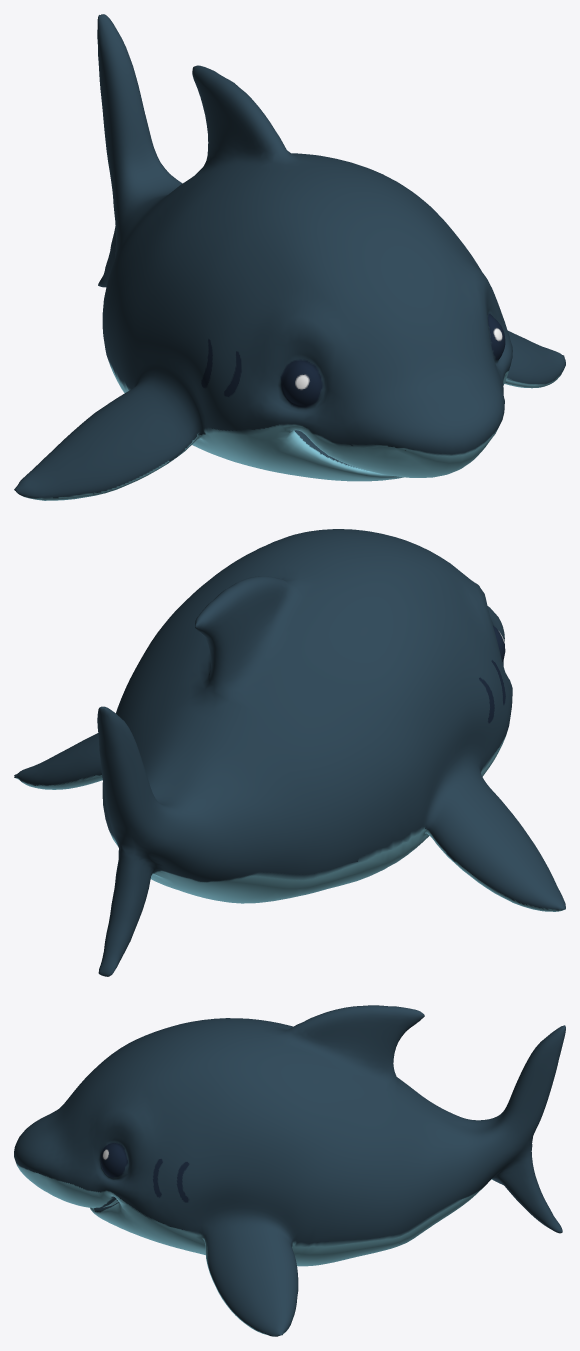
File: Sharkfbx.fbx
The picture shows the model from 3 angles, top to bottom: view 1: azimuth 30°, elevation 25°; view 2: azimuth 150°, elevation 25°; view 3: azimuth 270°, elevation 25°; orthographic projection. The views are drawn at different scales.
Visible parts, largest first — view 1: Shark; view 2: Shark; view 3: Shark.
Boxes of the visible parts, x1=… form: Shark: x1=14, y1=14, x2=565, y2=500; Shark: x1=14, y1=529, x2=565, y2=976; Shark: x1=14, y1=1005, x2=565, y2=1336.
Size of the model in its own units: 166 by 91.41 by 189.
